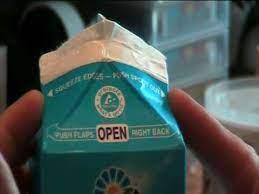cardboard: (33, 15, 184, 193)
plastic: (33, 15, 184, 193)
